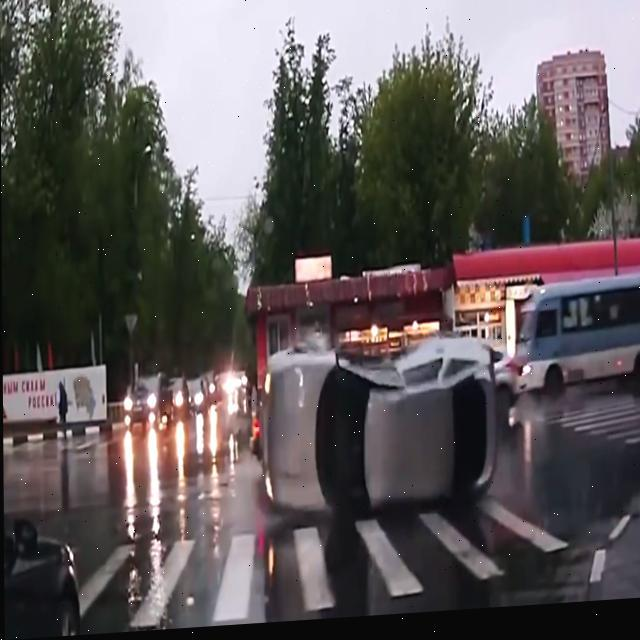single accident: (235, 325, 520, 534)
